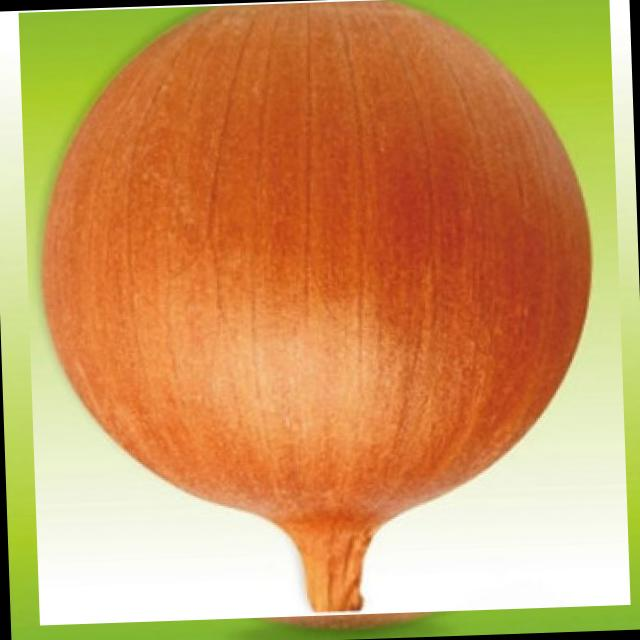Onion: (17, 0, 630, 625)
